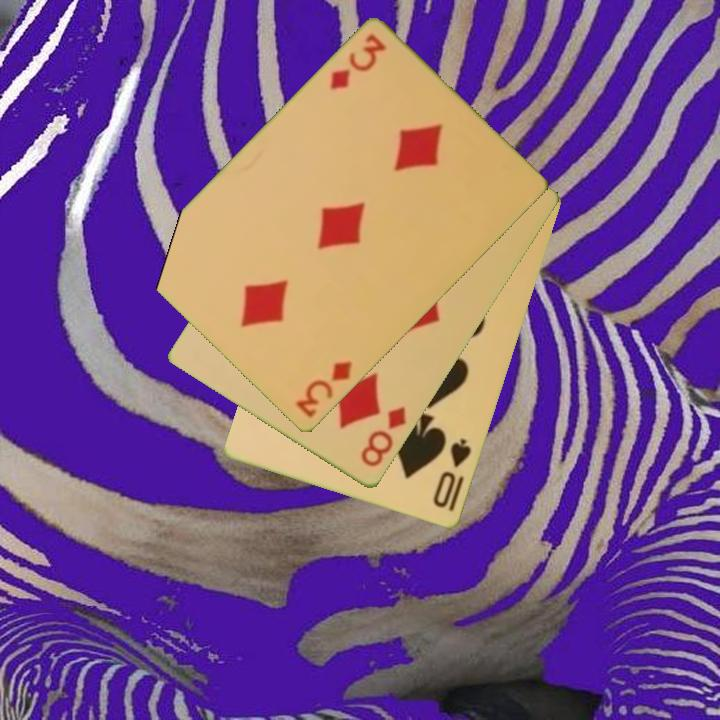10s: (429, 435, 475, 515)
3d: (326, 30, 390, 94), (292, 357, 355, 422)
8d: (357, 403, 410, 471)
